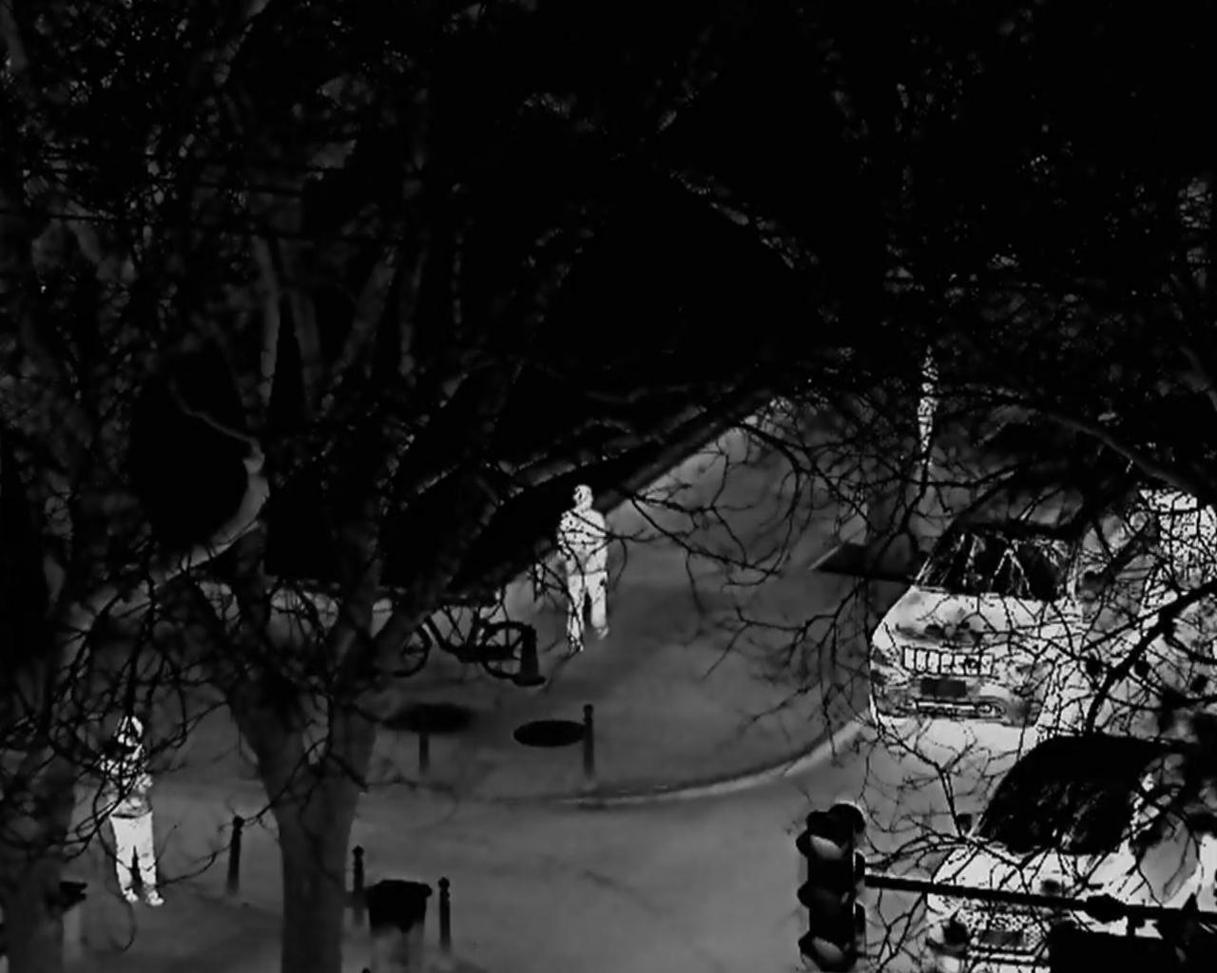person: (100, 714, 166, 906), (554, 481, 610, 656)
